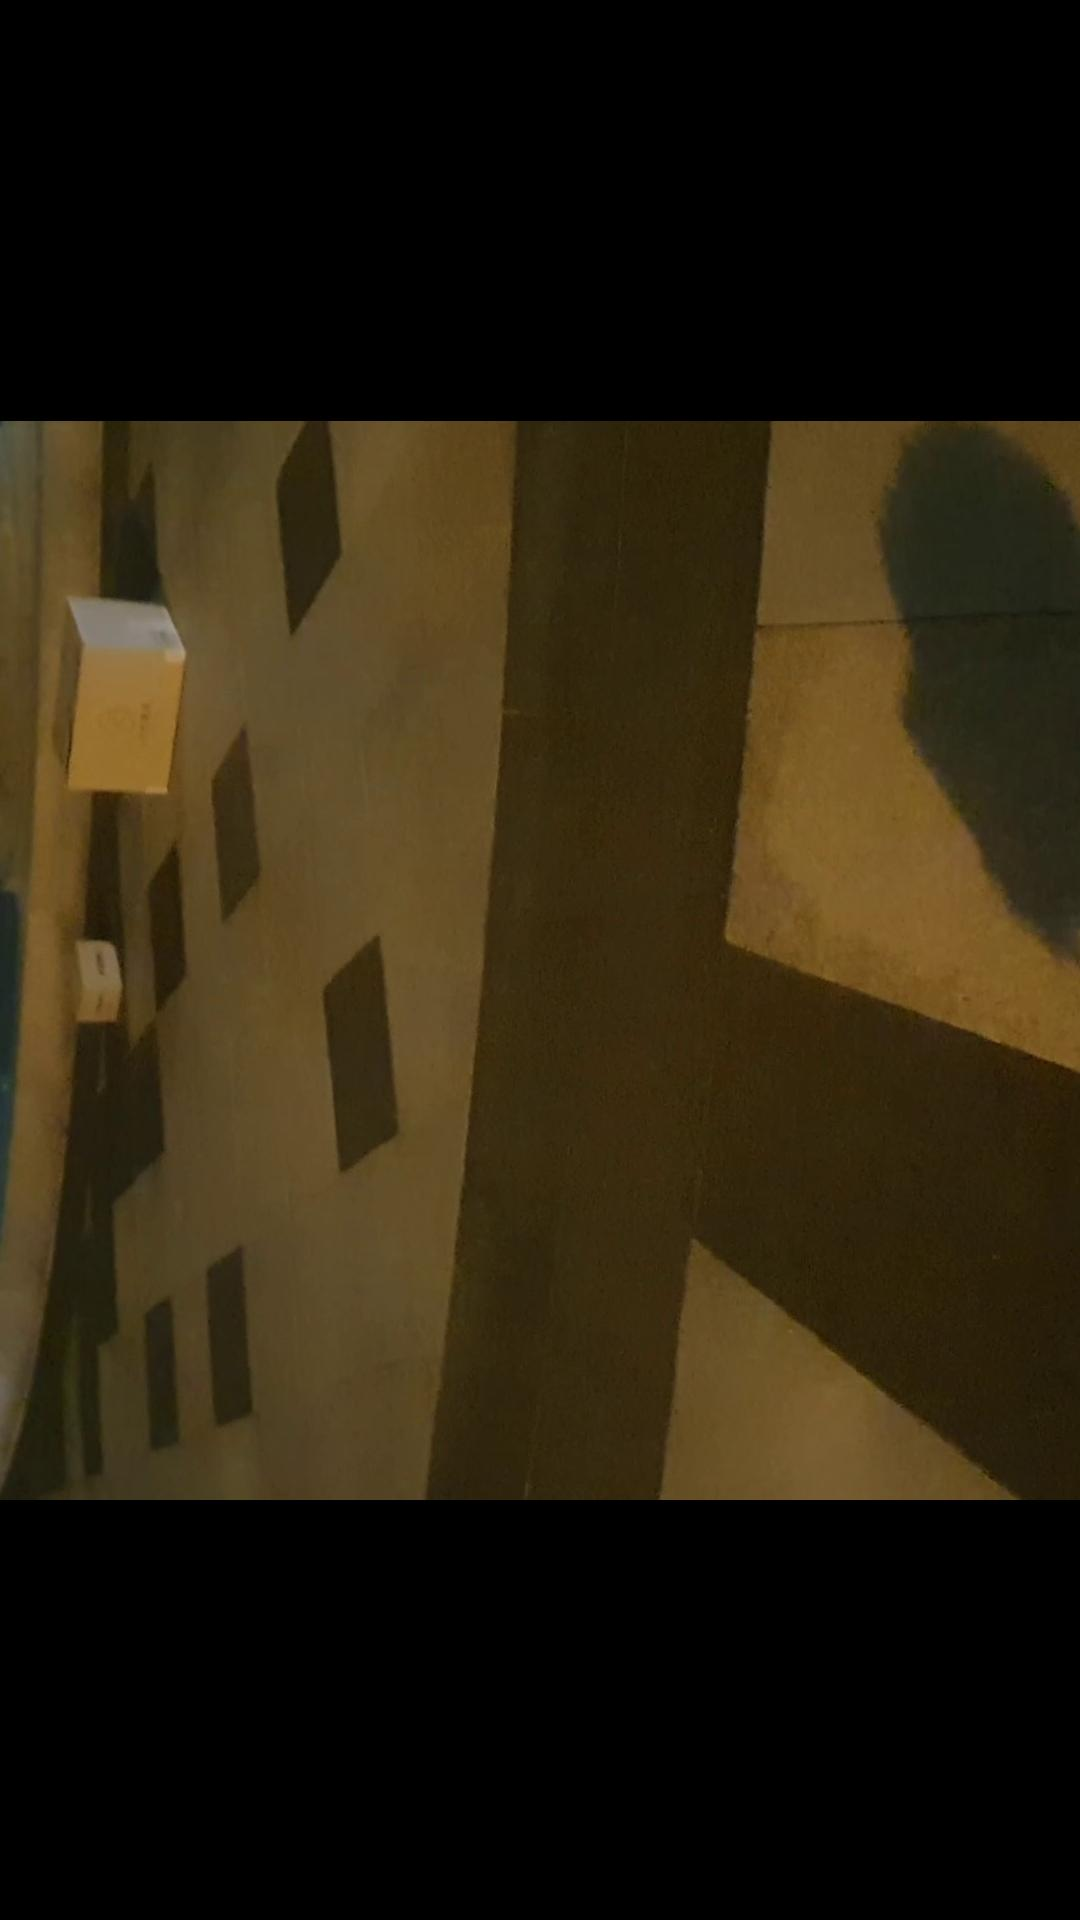Box: (47, 588, 193, 802), (53, 930, 128, 1034)
